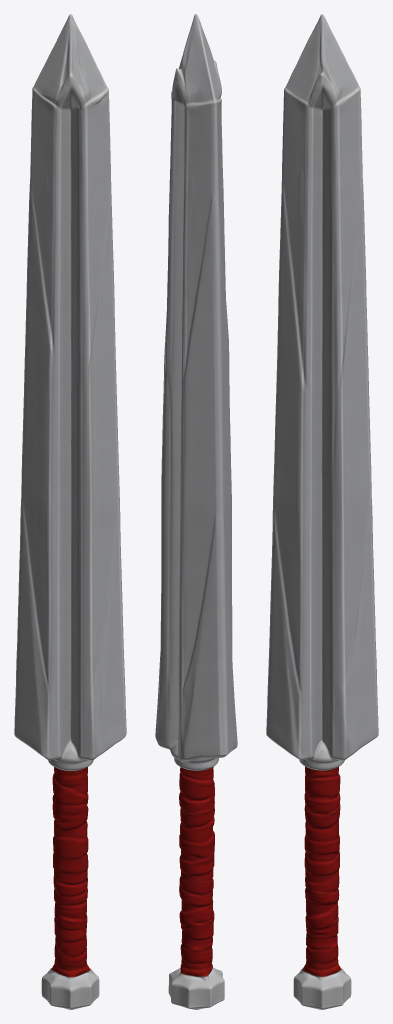
3 views of the same model, side by side, from view 1: azimuth 90°, elevation 25°; view 2: azimuth 210°, elevation 25°; view 3: azimuth 270°, elevation 25° (orthographic).
Parts seen in each view (by area): view 1: tripo_node_c58d9a23-81e4-4a6e-a131-d36c082e13e1; view 2: tripo_node_c58d9a23-81e4-4a6e-a131-d36c082e13e1; view 3: tripo_node_c58d9a23-81e4-4a6e-a131-d36c082e13e1.
Part boxes in pixels (x1,y1,x2,y2): tripo_node_c58d9a23-81e4-4a6e-a131-d36c082e13e1: (14,14,126,1009); tripo_node_c58d9a23-81e4-4a6e-a131-d36c082e13e1: (155,14,237,1009); tripo_node_c58d9a23-81e4-4a6e-a131-d36c082e13e1: (266,14,378,1009).
Bounding box in the file's own units: 0.0578 × 1 × 0.1023.
Materials: 1 (1 with a texture image).
